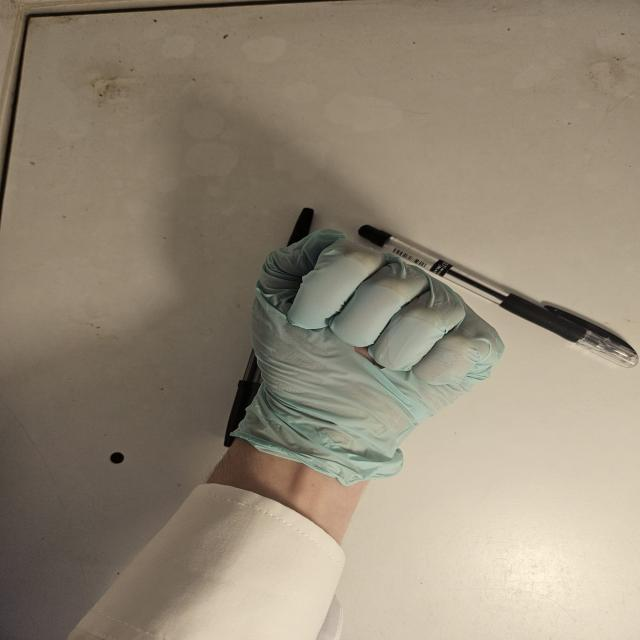gloves_damaged: (230, 224, 510, 490)
